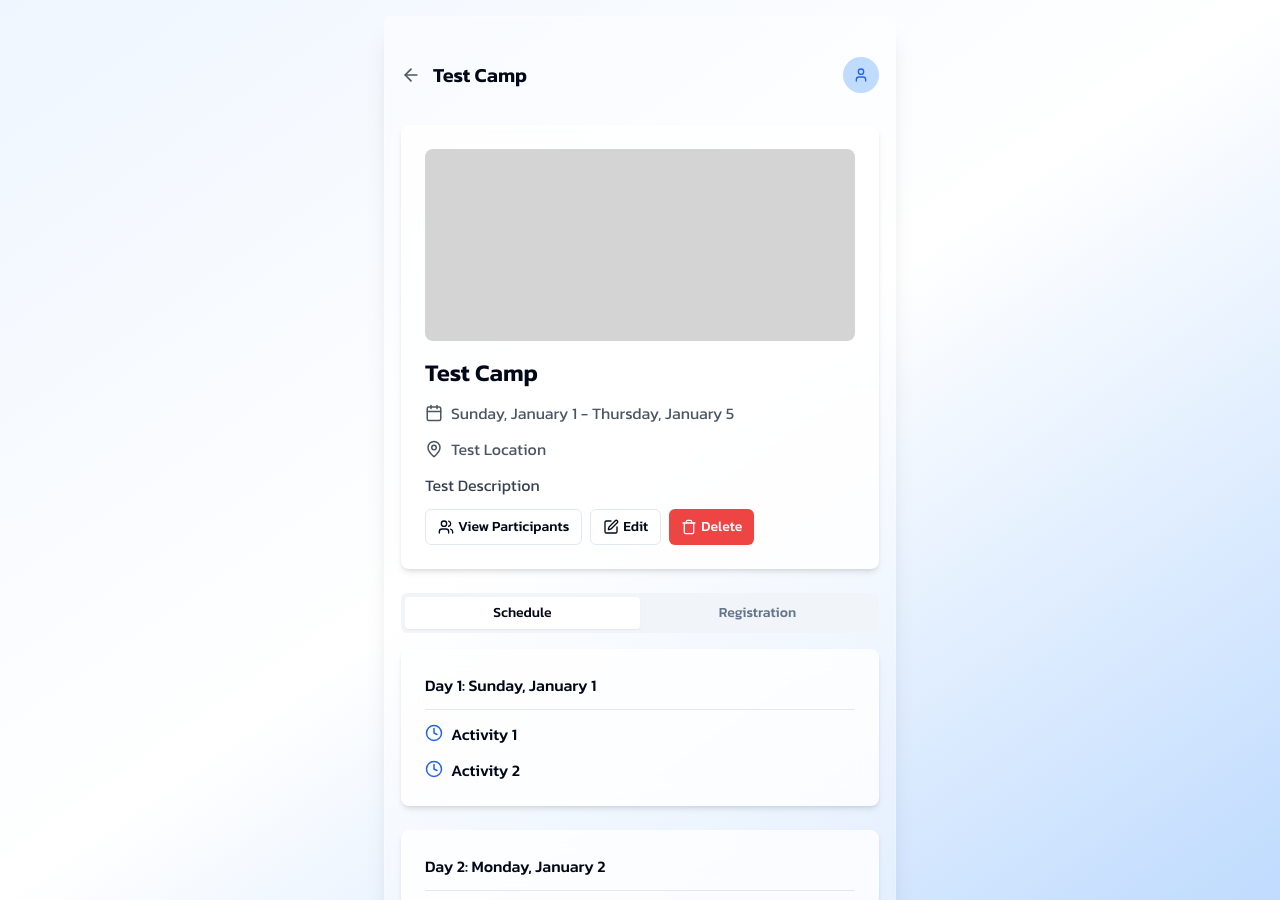
CampDetail Page › shows schedule tab with camp days
The width and height of the screenshot is (1280, 900).
# Find and click the Schedule tab
Click the tab "Schedule": [522, 613] box [405,597,640,629]
(page scrolled)
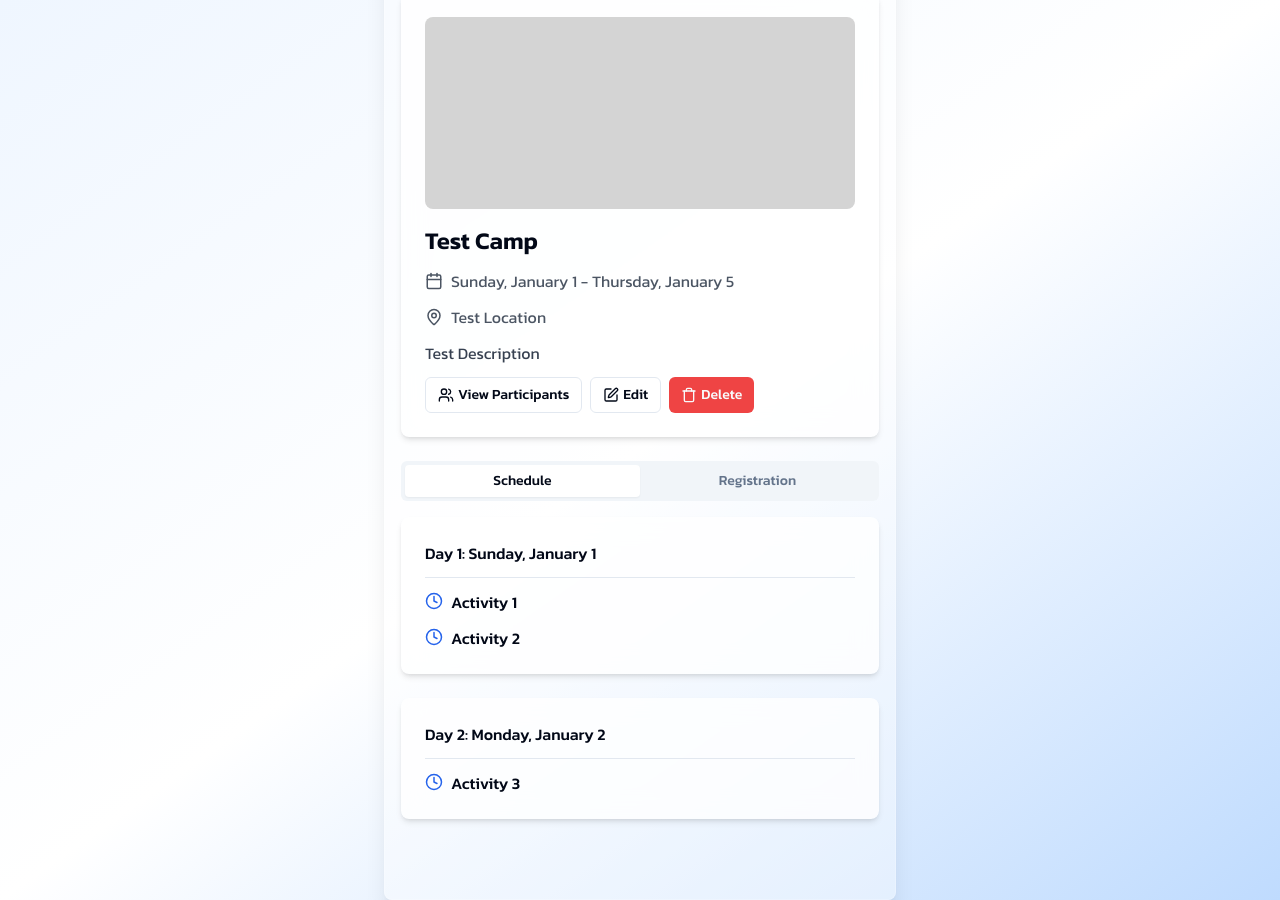
Check: the heading "Day 1: Sunday, January 1" is shown, box [425,541,596,565]
Check: the text "Activity 3" is shown, box [451,771,520,795]
